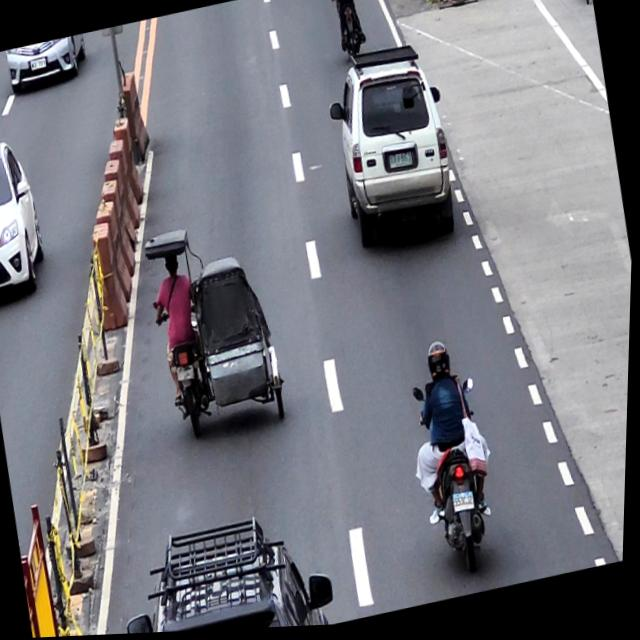Car: (325, 40, 467, 252), (131, 510, 343, 635)
License-Plate: (453, 492, 480, 521), (175, 364, 200, 388), (389, 152, 416, 172)
Motorcycle: (400, 332, 514, 596)
Tricycle: (148, 214, 293, 446)
